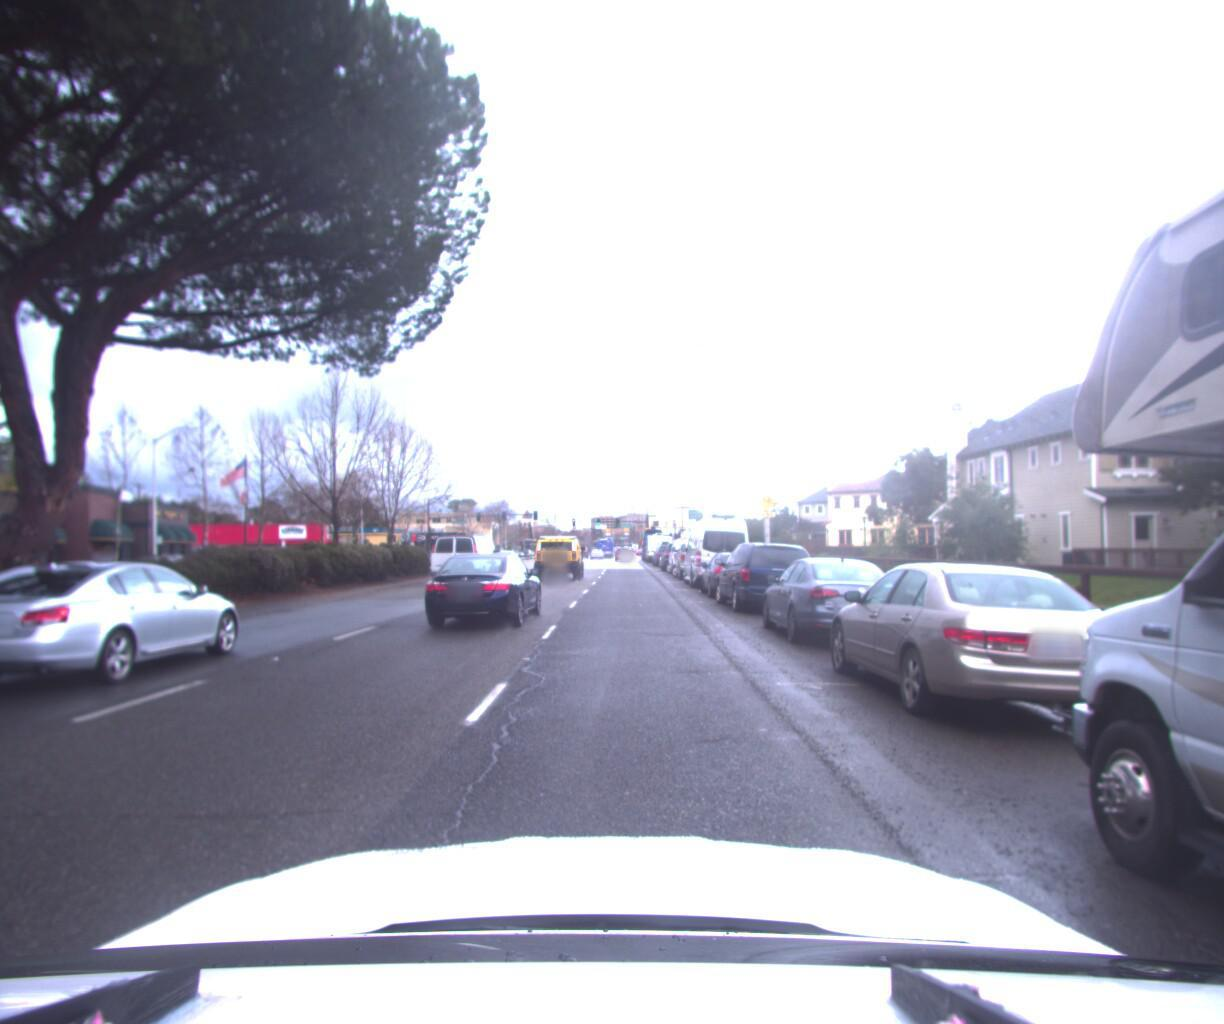car: (808, 543, 1172, 751), (753, 546, 918, 653), (424, 549, 548, 634), (708, 531, 825, 613), (427, 529, 505, 589), (698, 544, 774, 600), (533, 527, 588, 579), (670, 530, 726, 578), (668, 532, 712, 571), (659, 533, 695, 569), (494, 546, 528, 573)
other_vehicle: (680, 506, 754, 587), (645, 527, 672, 559)
